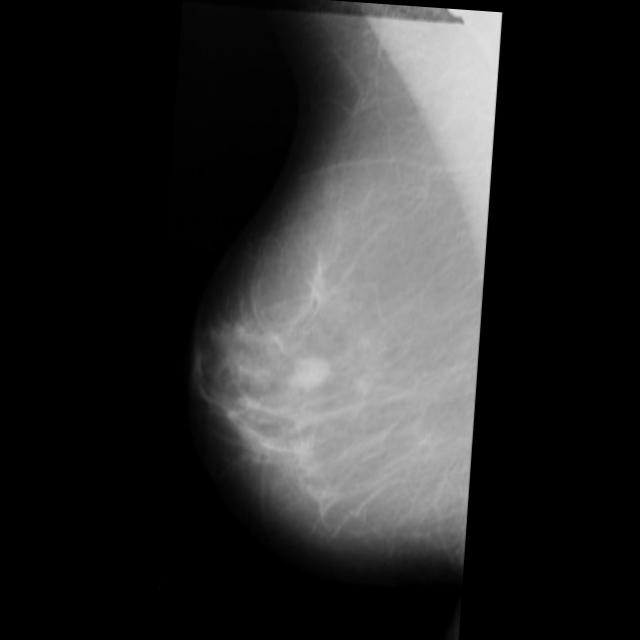CIRC: (286, 352, 330, 396)
